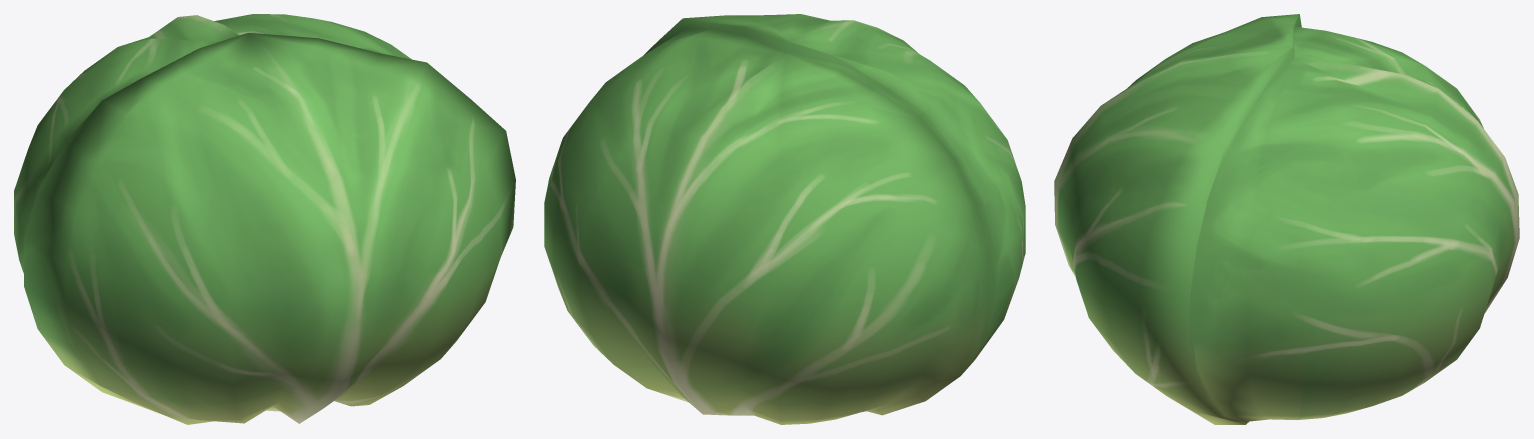
File: kyabetu1.fbx
3 renders of one model, left to right at view 1: azimuth 30°, elevation 25°; view 2: azimuth 150°, elevation 25°; view 3: azimuth 270°, elevation 25°, orthographic. The views are drawn at different scales.
Visible parts, largest first — view 1: 球; view 2: 球; view 3: 球.
Boxes of the visible parts, <box> form: 球: <box>14,14,515,424</box>; 球: <box>544,14,1025,424</box>; 球: <box>1054,14,1519,424</box>.
Size of the model in its own units: 205 by 162 by 201.
